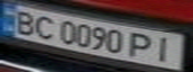0: (54, 18, 78, 46), (106, 27, 127, 55), (72, 21, 93, 48)
9: (90, 25, 109, 53)
B: (6, 8, 42, 35)
C: (30, 14, 60, 40)
I: (148, 34, 184, 64)
P: (127, 30, 160, 60)
